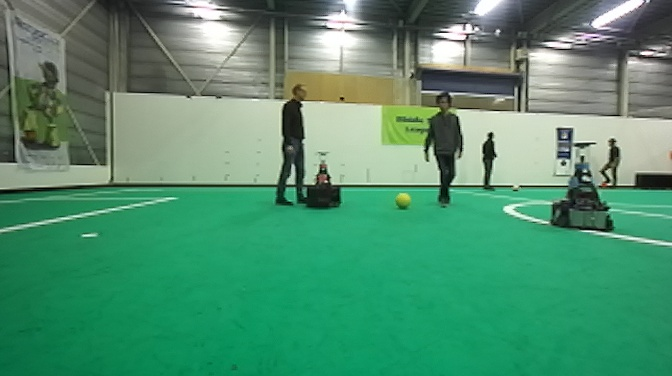ball: (394, 191, 412, 211), (510, 182, 521, 193), (600, 180, 608, 189)
human: (422, 89, 466, 211), (274, 82, 312, 207), (479, 127, 503, 192), (597, 136, 624, 189)
robot: (548, 138, 616, 233), (304, 149, 344, 213)
